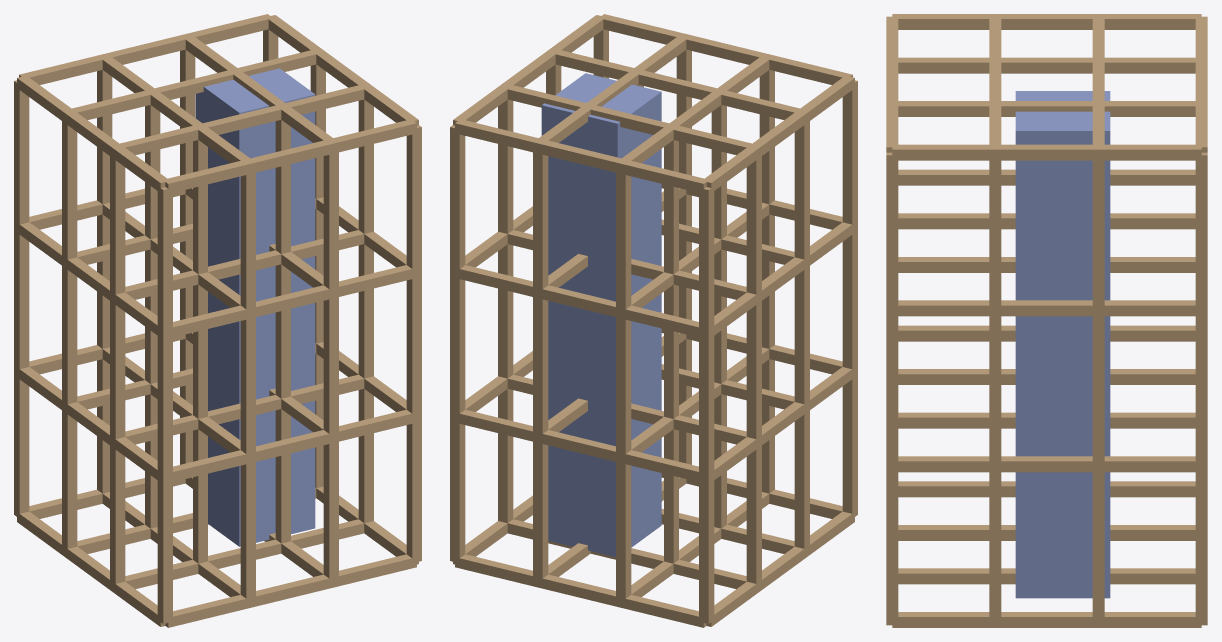
File: folie_tag_087.glb
3 renders of one model, left to right at view 1: azimuth 30°, elevation 25°; view 2: azimuth 150°, elevation 25°; view 3: azimuth 270°, elevation 25°, orthographic. The views are drawn at different scales.
Parts seen in each view (by area): view 1: folie_tag_087_00_cage, folie_tag_087_core; view 2: folie_tag_087_00_cage, folie_tag_087_core; view 3: folie_tag_087_00_cage, folie_tag_087_core.
Boxes of the visible parts, x1,y1,x2,y2 form: folie_tag_087_00_cage: (14, 14, 421, 627); folie_tag_087_core: (195, 68, 315, 546); folie_tag_087_00_cage: (450, 14, 857, 627); folie_tag_087_core: (541, 73, 661, 557); folie_tag_087_00_cage: (886, 14, 1207, 627); folie_tag_087_core: (1015, 91, 1110, 598).
Bounding box in the file's own units: 3.74 × 6.14 × 3.74.
